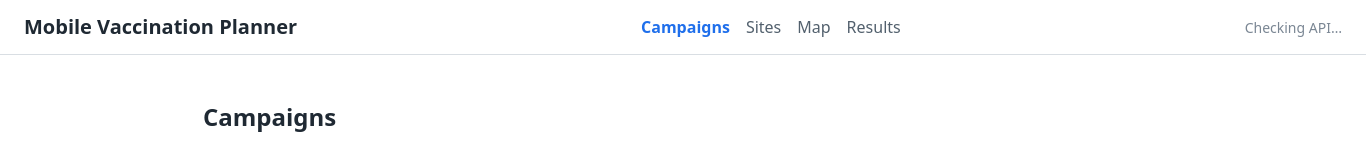
clicking a nav link opens that page
The width and height of the screenshot is (1366, 160).
Click the link "Sites": (764, 27) [746,15,781,39]
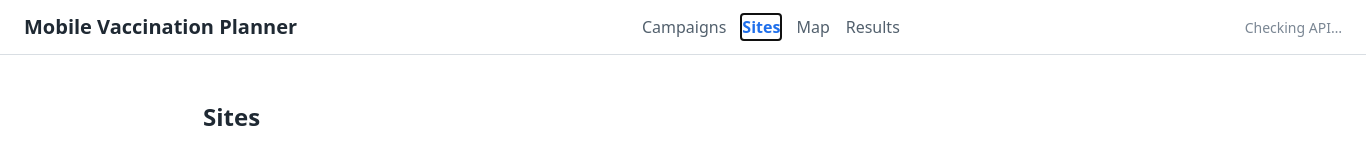
Result: the heading "Sites" is shown at [203,100,260,133]
